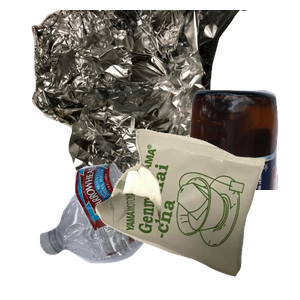glass: (87, 87, 300, 267)
metal: (29, 10, 269, 190)
plastic: (37, 144, 265, 300)
trash: (93, 126, 300, 300)
